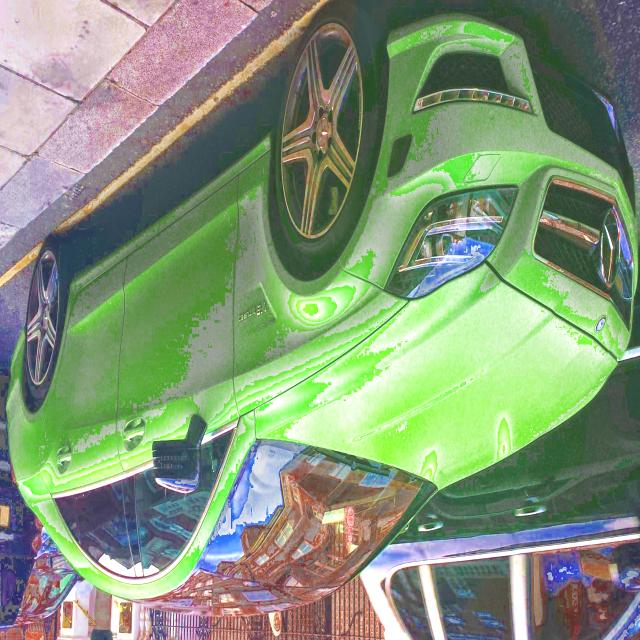green: (6, 10, 639, 618)
